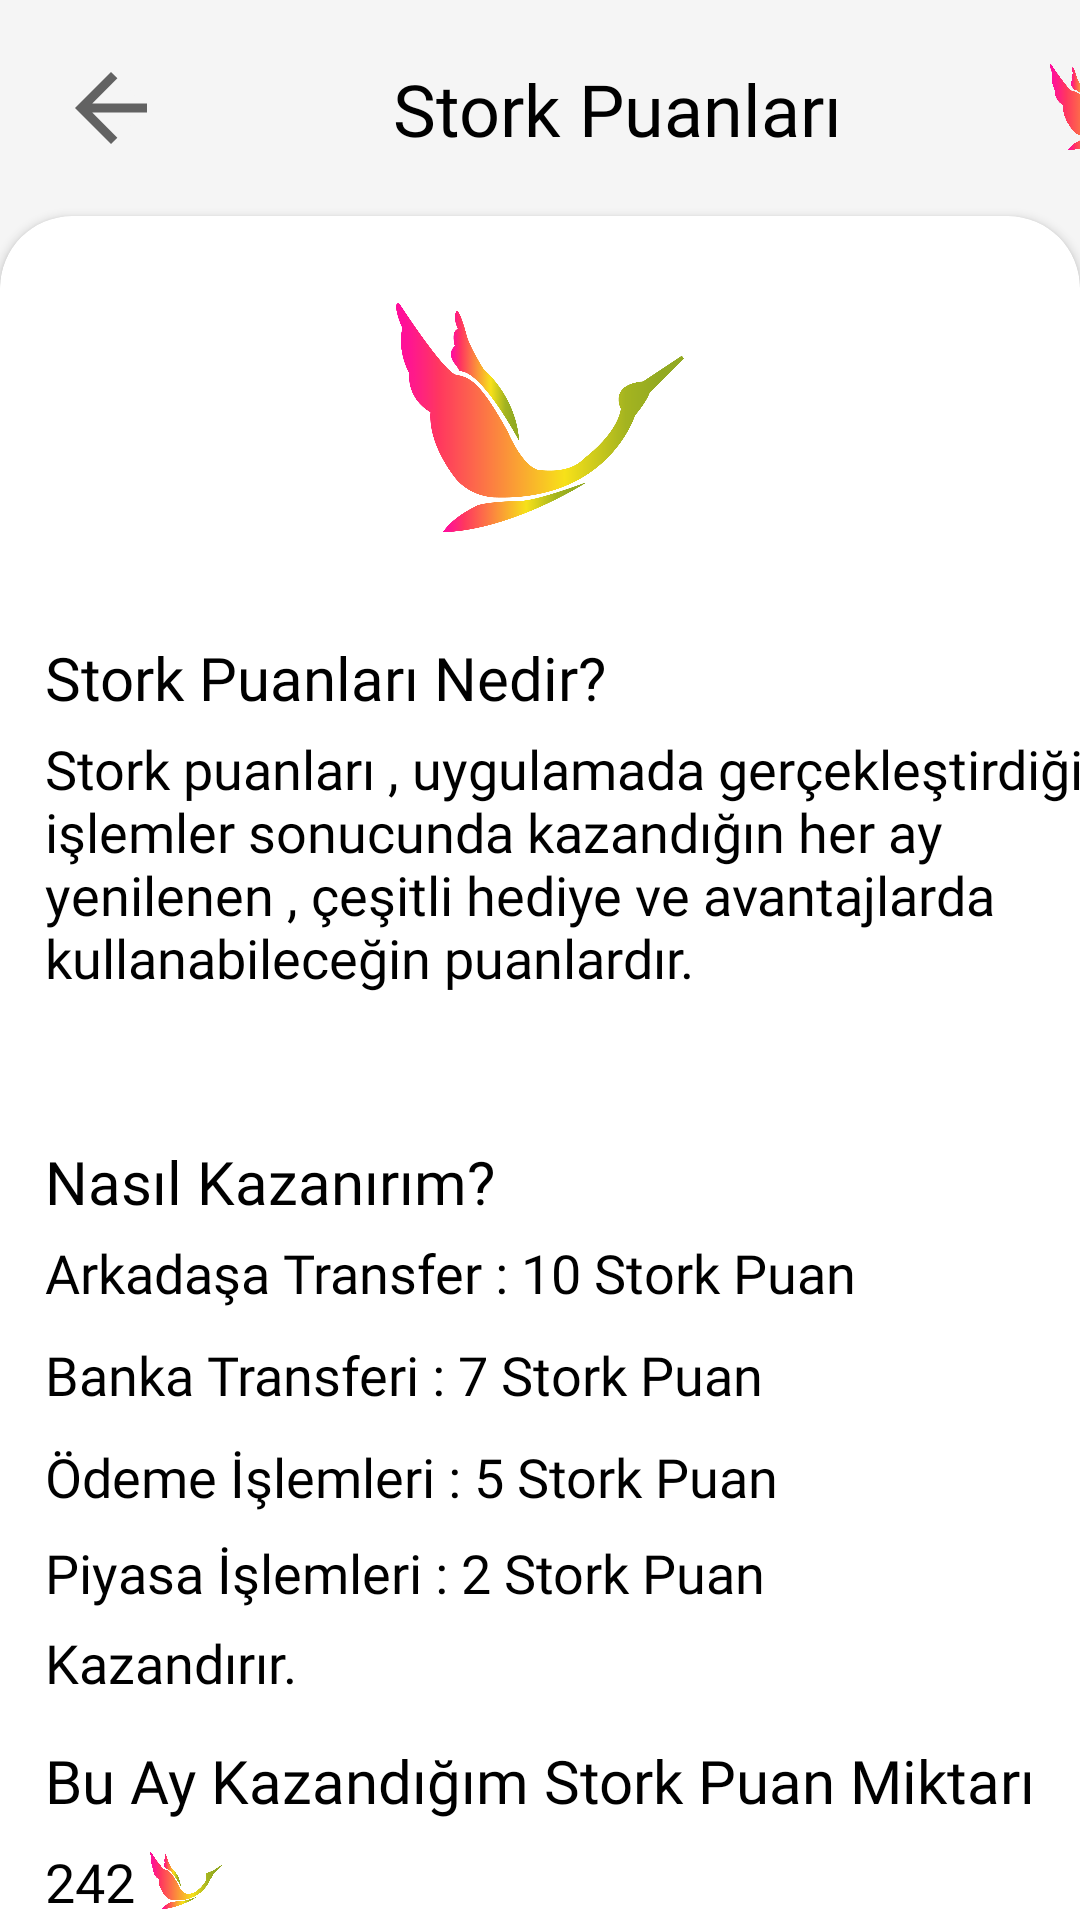

Icon click points for this 1080px x 1920px phone screenshot, format [x,y]:
back: [111,108]
